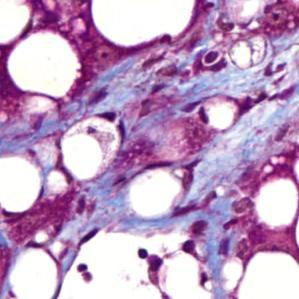steatosis: (7, 30, 84, 97), (92, 0, 194, 46), (126, 167, 185, 222), (0, 153, 43, 215), (12, 244, 58, 299), (60, 131, 107, 178), (252, 182, 298, 224)
